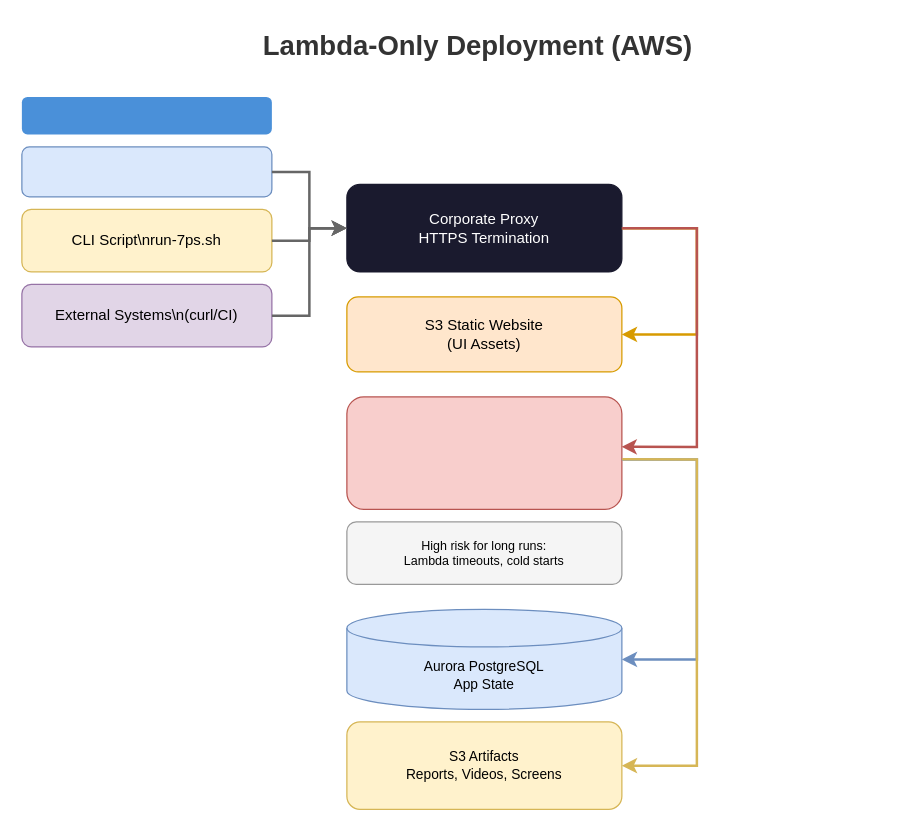
This 906x831 diagram has some shape labels left out. Here are the shapes that lost their labels. From the top down, the box of each, then its label:
(21, 96, 271, 134): ENTRY POINTS
(21, 146, 272, 197): Web UI (React)
(346, 396, 622, 509): AWS Lambda Express API + Runner Playwright + 7PS CLI
